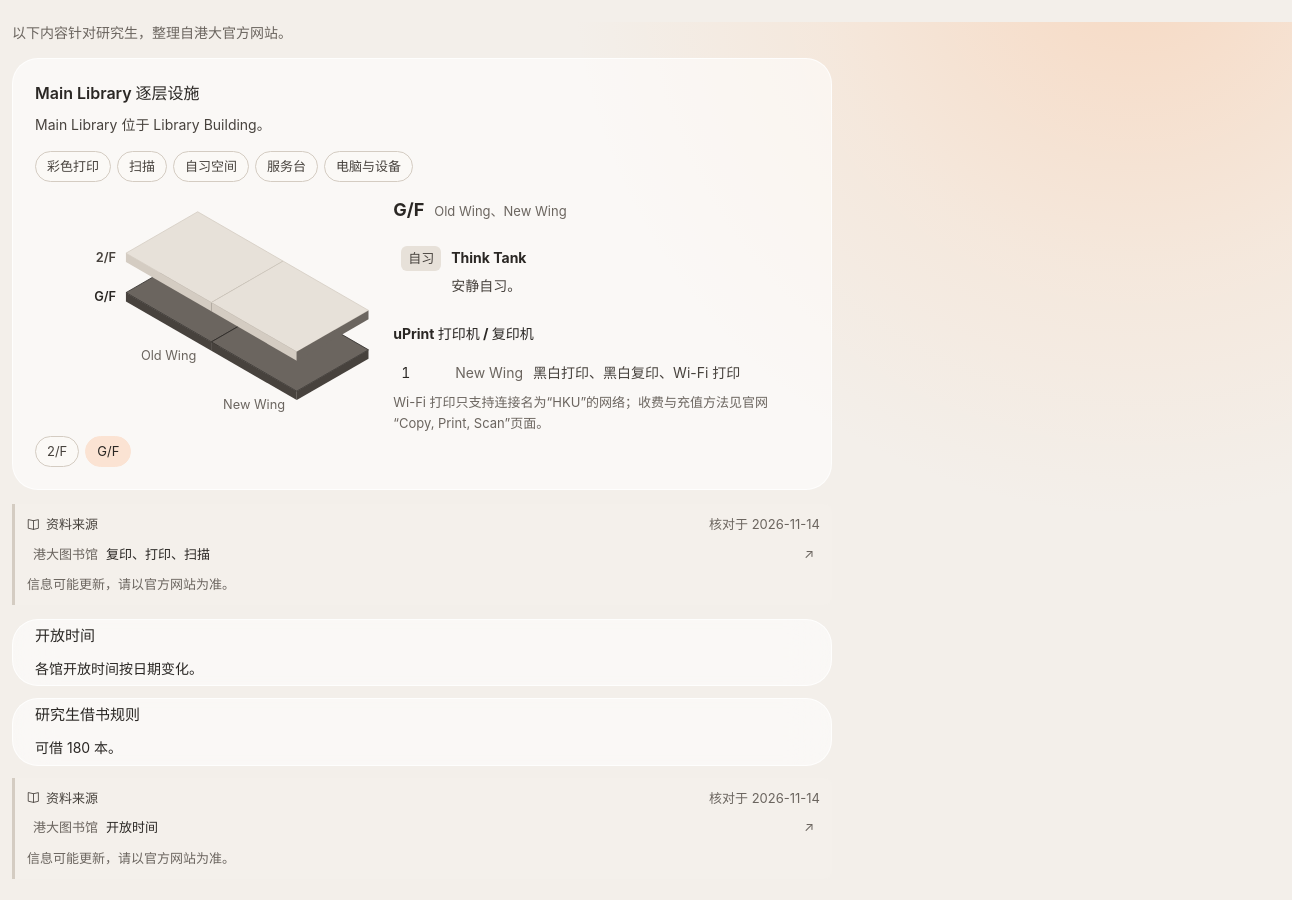
Test: browses library floors and highlights floors with a facility
The image size is (1292, 900).
Expected: the heading "G/F Old Wing、New Wing" is shown, x1=393 y1=199 x2=567 y2=220
Expected: the text "Think Tank" is shown, x1=451 y1=249 x2=526 y2=266
Click the button "彩色打印" at (73, 166), box x1=35 y1=151 x2=111 y2=182
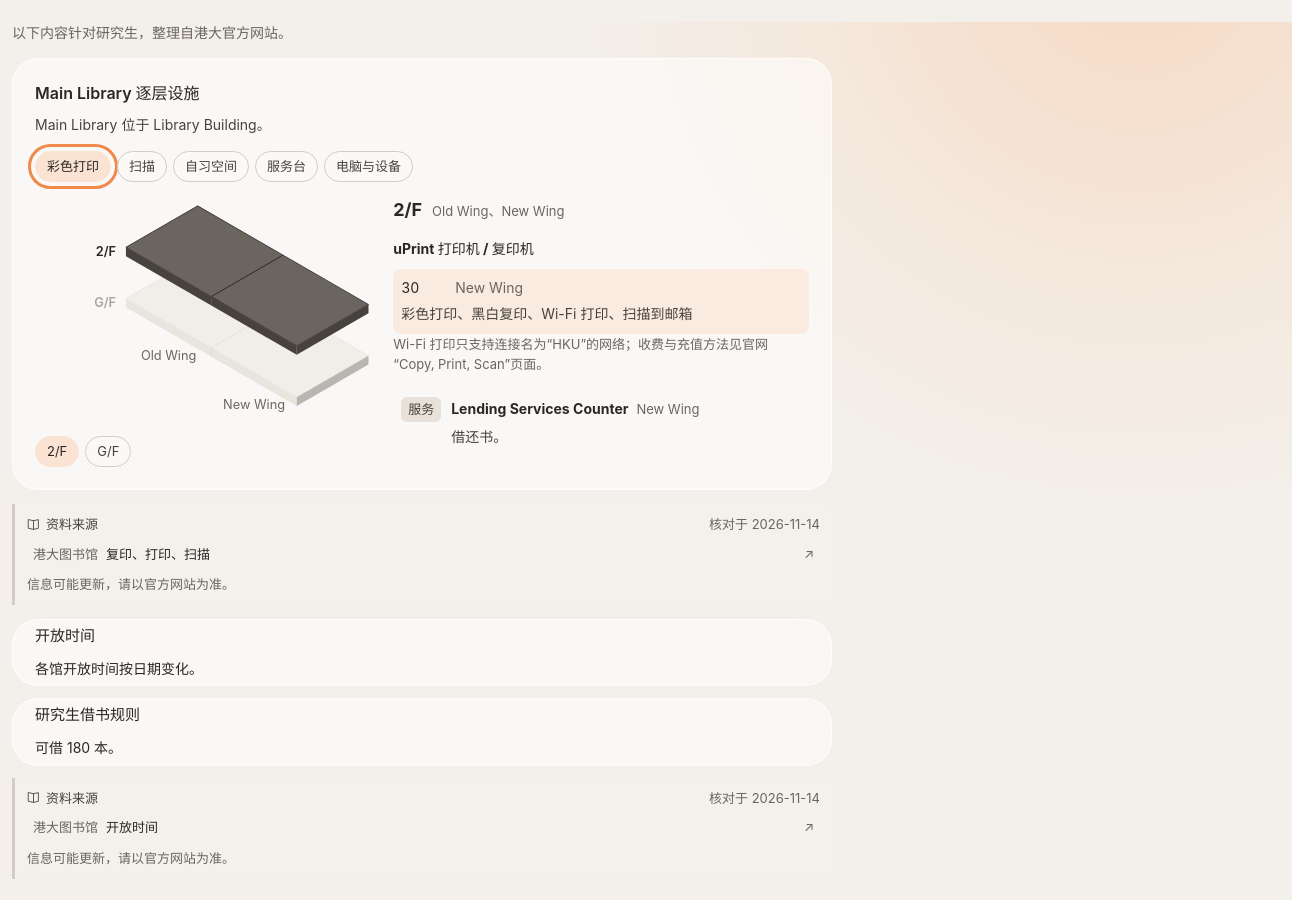
Now the heading "2/F Old Wing、New Wing" is shown, box x1=393 y1=199 x2=564 y2=220
Now the text "彩色打印、黑白复印、Wi-Fi 打印、扫描到邮箱" is shown, box x1=401 y1=303 x2=692 y2=326
Click the button "G/F" at (108, 452), box x1=85 y1=436 x2=131 y2=467
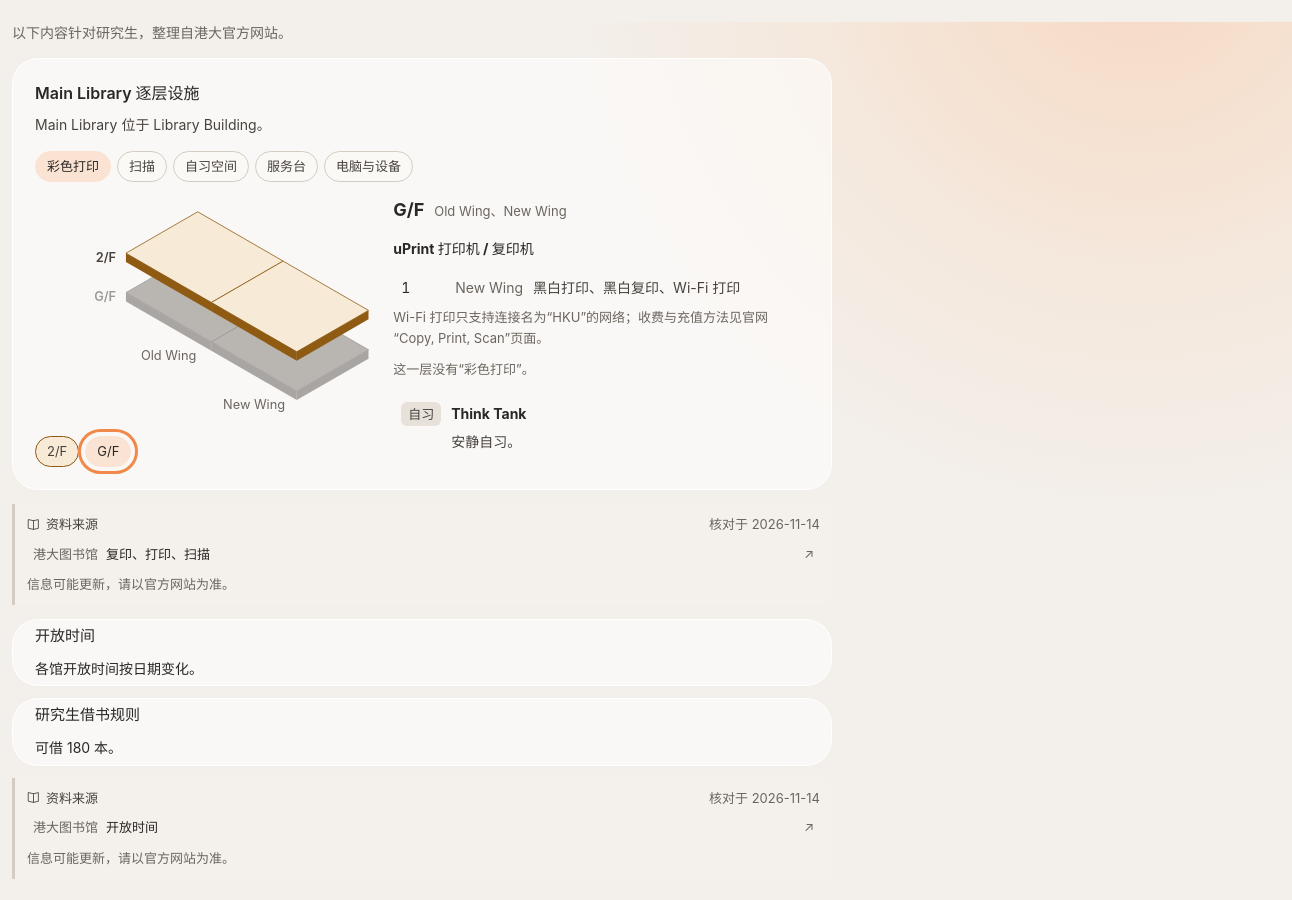
Now the text "这一层没有“彩色打印”。" is shown, box x1=393 y1=361 x2=535 y2=377
